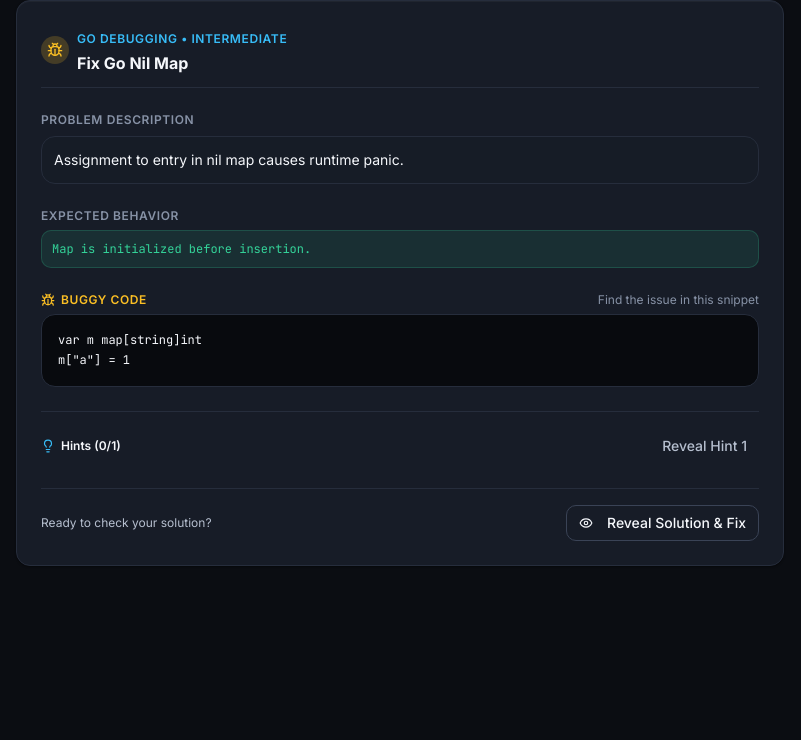
Test: AI Practice Studio UI › runs an interactive debugging exercise with hints and solution disclosure
Check: the heading "Fix Go Nil Map" is shown, box [77,53,188,73]
Check: the text "Assignment to entry in nil map causes runtime panic." is shown, box [41,136,759,184]
Note: Reveal hint
Click the button "Reveal Hint 1".
click(705, 446)  # box [650,428,759,464]
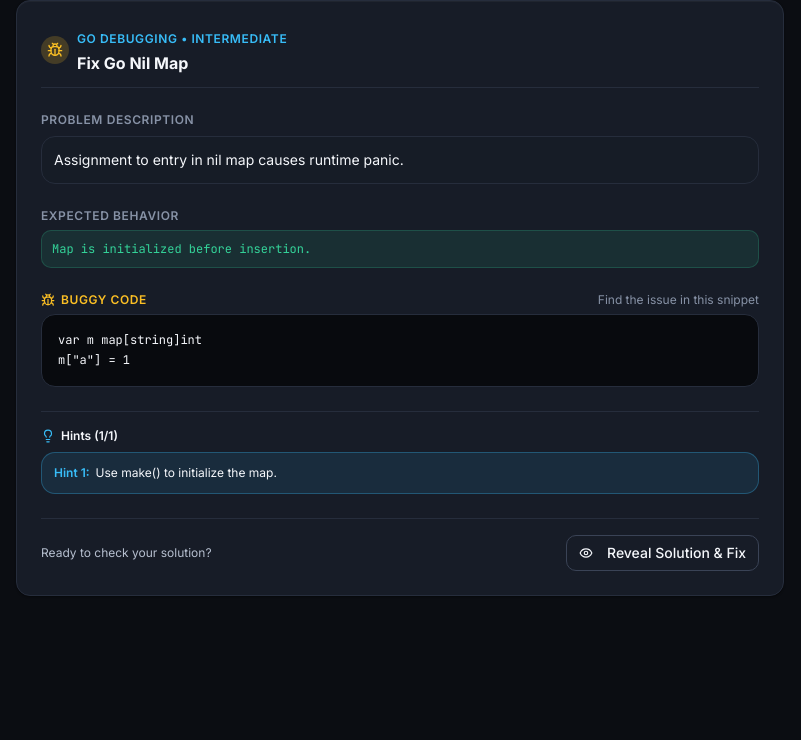
Check: the text "Hint 1:Use make() to initialize the map." is shown, box [41,452,759,494]
Note: Reveal solution
Click the button "Reveal Solution & Fix".
click(662, 553)  # box [566,535,759,571]
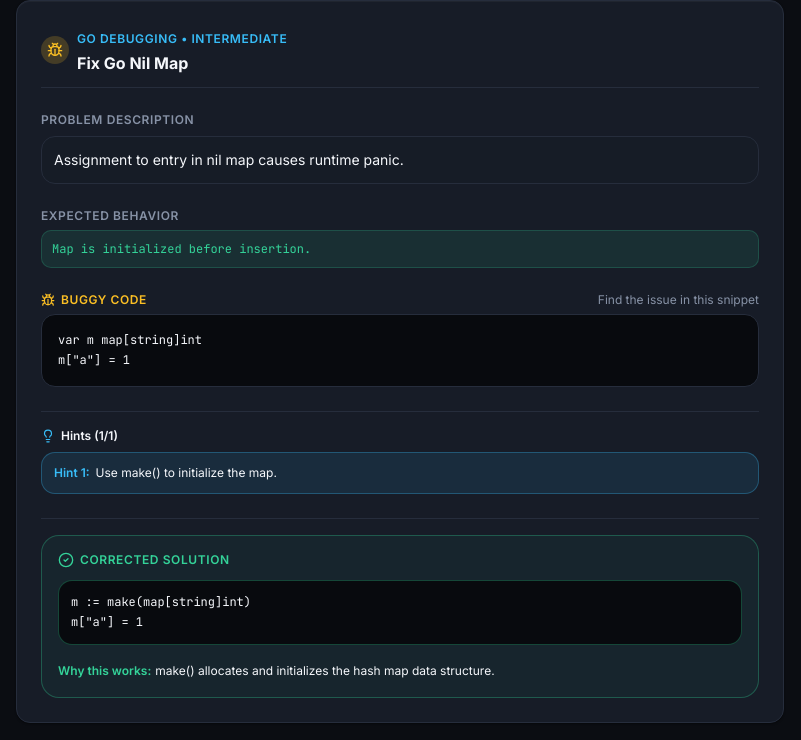
Check: the text "Corrected Solution" is shown, box [58,552,230,568]
Check: the text "m := make(map[string]int) m[\"a\"] = 1" is shown, box [71,594,251,630]
